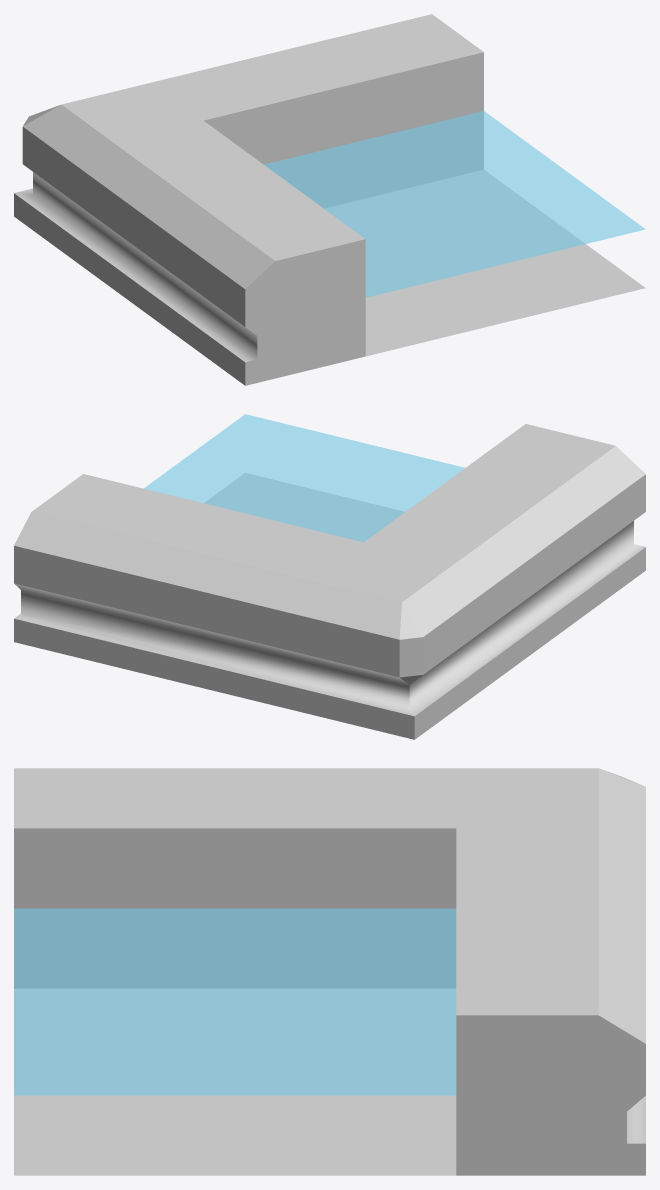
File: fountain-corner.glb
3 views of the same model, one above another, from view 1: azimuth 30°, elevation 25°; view 2: azimuth 150°, elevation 25°; view 3: azimuth 270°, elevation 25° (orthographic). The views are drawn at different scales.
Parts seen in each view (by area): view 1: fountain-corner, (%ignore); view 2: fountain-corner, (%ignore); view 3: fountain-corner, (%ignore).
Part boxes in pixels (x1,y1,x2,y2): fountain-corner: (14,14,645,385); (%ignore): (264,111,645,297); fountain-corner: (14,424,645,739); (%ignore): (144,414,464,542); fountain-corner: (14,768,645,1175); (%ignore): (14,908,456,1095).
Size of the model in its own units: 1 by 0.28 by 1.
